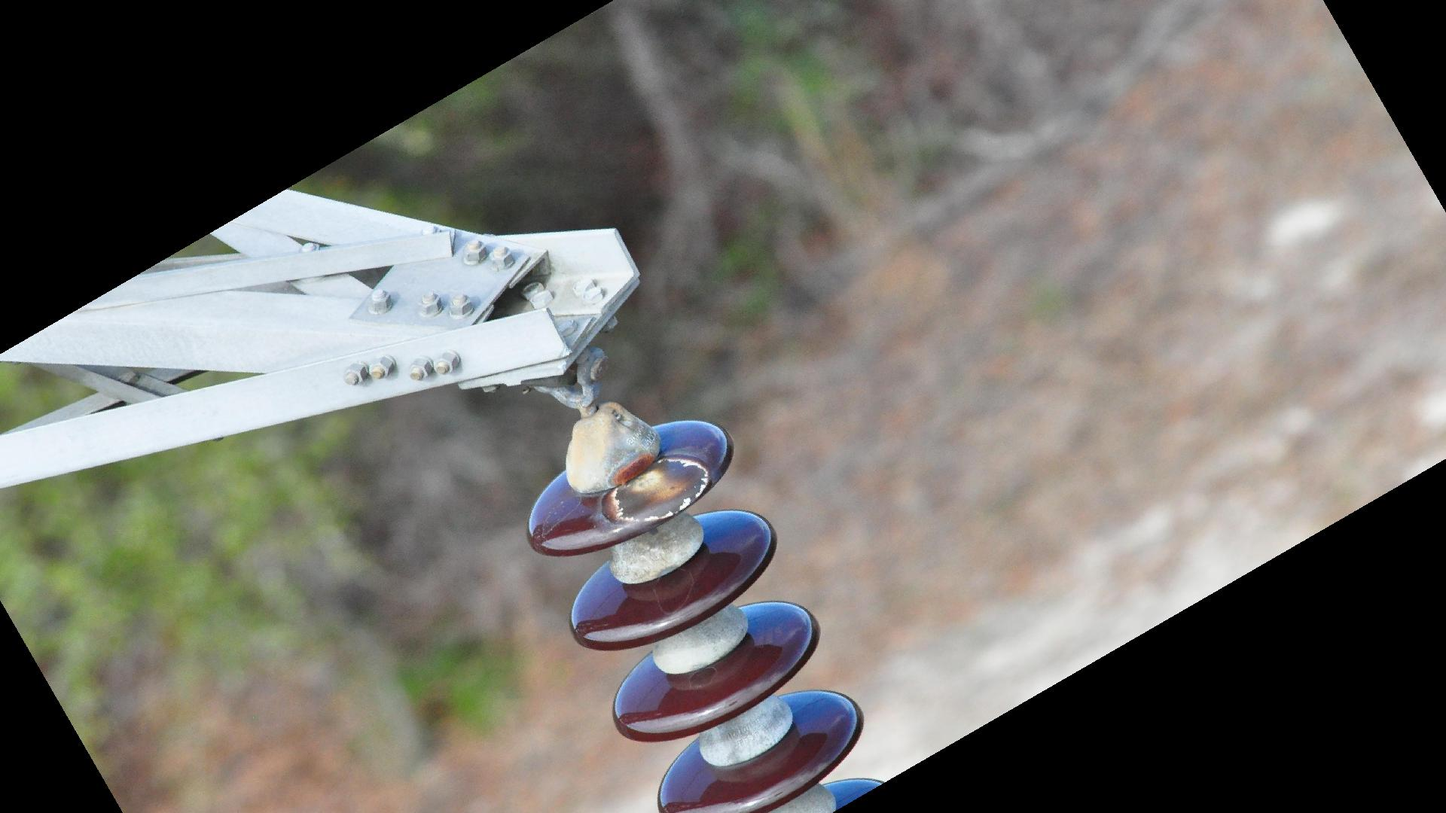insulator: (521, 414, 885, 813)
insulator_flashover: (611, 455, 713, 528)
